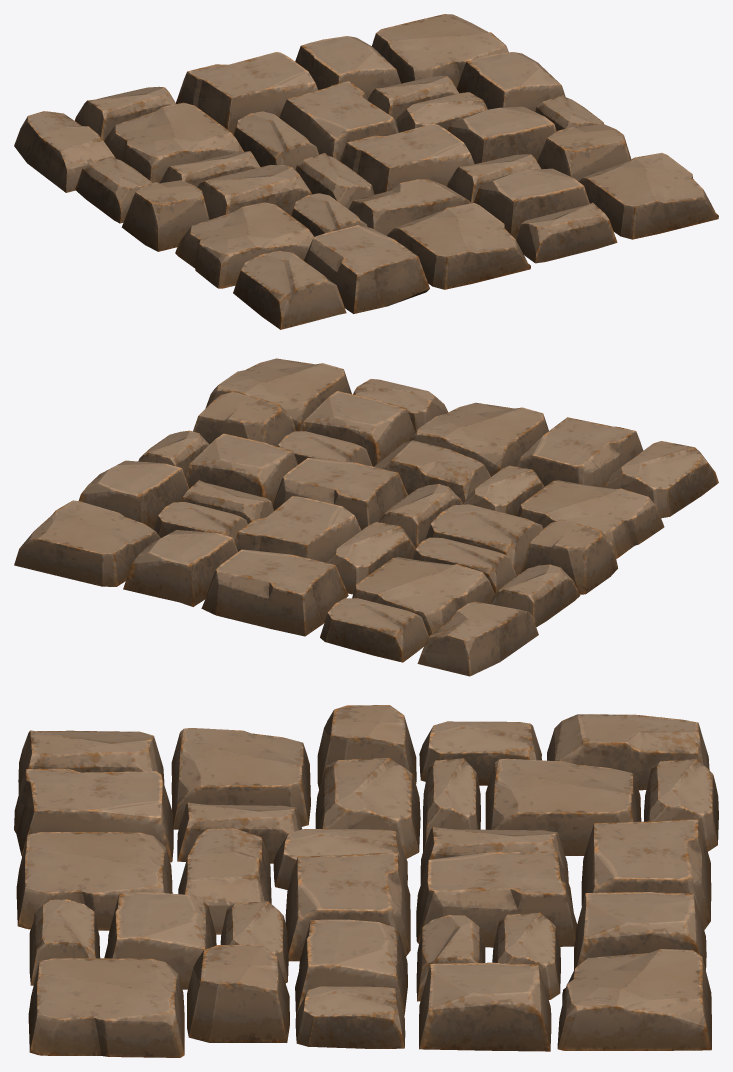
The model's file is DesertRockPath_Square_Wide.obj.
3 renders of one model, top to bottom at view 1: azimuth 30°, elevation 25°; view 2: azimuth 150°, elevation 25°; view 3: azimuth 270°, elevation 25°, orthographic. The views are drawn at different scales.
Visible parts, largest first — view 1: DesertRockPath_Square_Wide; view 2: DesertRockPath_Square_Wide; view 3: DesertRockPath_Square_Wide.
Part boxes in pixels (<box>): DesertRockPath_Square_Wide: <box>14,14,718,329</box>; DesertRockPath_Square_Wide: <box>14,358,718,676</box>; DesertRockPath_Square_Wide: <box>14,705,718,1057</box>.
Size of the model in its own units: 2.05 by 0.1763 by 1.99.
1 material, 1 textured.
